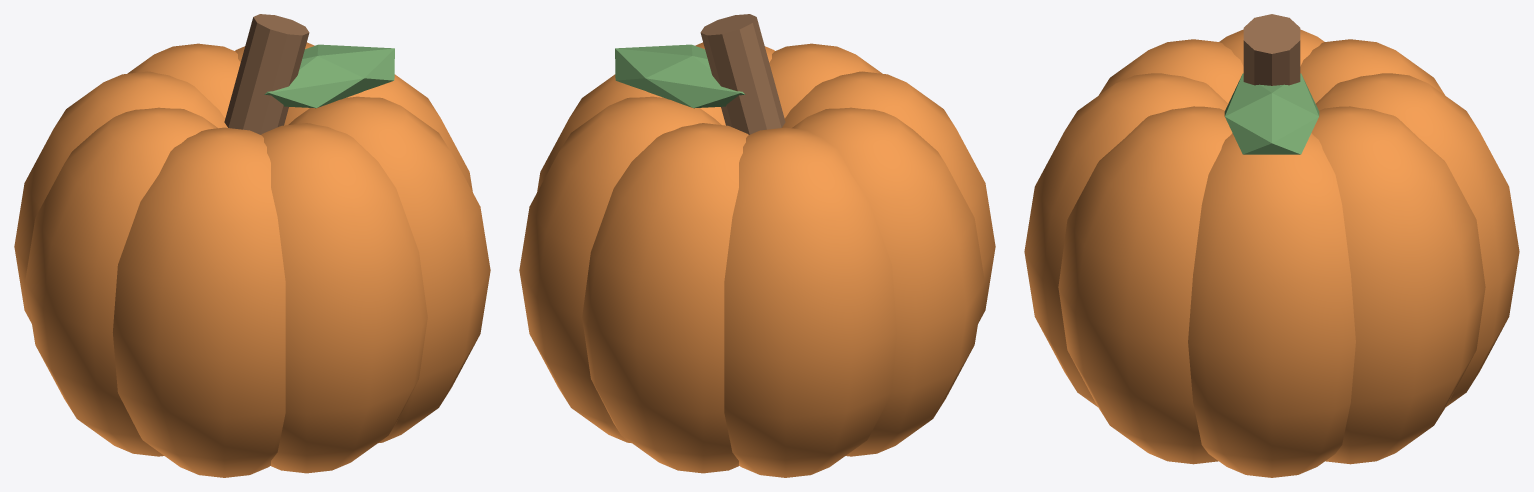
Rendered from pumpkin.glb.
3 renders of one model, left to right at view 1: azimuth 30°, elevation 25°; view 2: azimuth 150°, elevation 25°; view 3: azimuth 270°, elevation 25°, orthographic. The views are drawn at different scales.
Visible parts, largest first — view 1: pumpkin; view 2: pumpkin; view 3: pumpkin.
Part boxes in pixels (bbox=[...]): pumpkin: bbox=[14, 14, 490, 477]; pumpkin: bbox=[519, 14, 995, 477]; pumpkin: bbox=[1024, 14, 1519, 477].
Size of the model in its own units: 0.58 by 0.5303 by 0.58.
